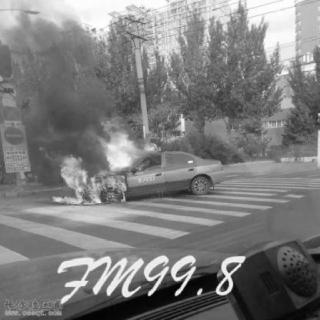Fire: (50, 119, 158, 208)
Smoke: (17, 20, 119, 119)
other: (288, 2, 316, 66), (1, 295, 64, 317), (272, 67, 296, 107)
